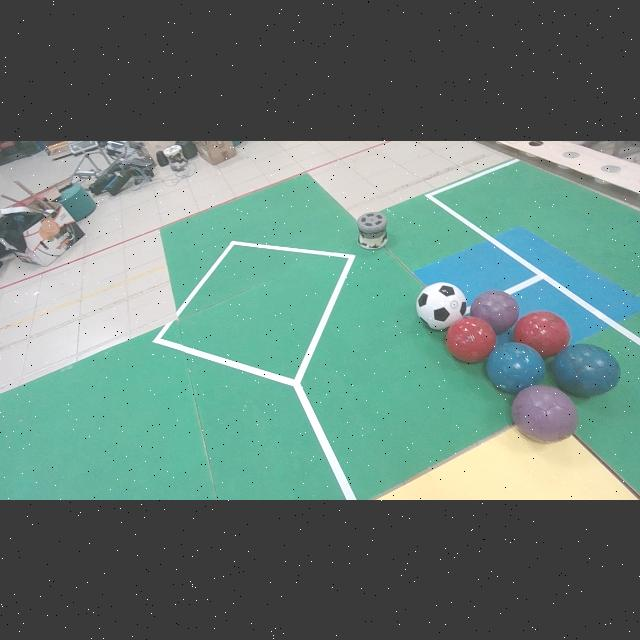B: (551, 344, 621, 396), (487, 343, 545, 393)
P: (512, 385, 579, 442), (470, 289, 519, 333)
R: (513, 310, 571, 357), (445, 317, 496, 362)
